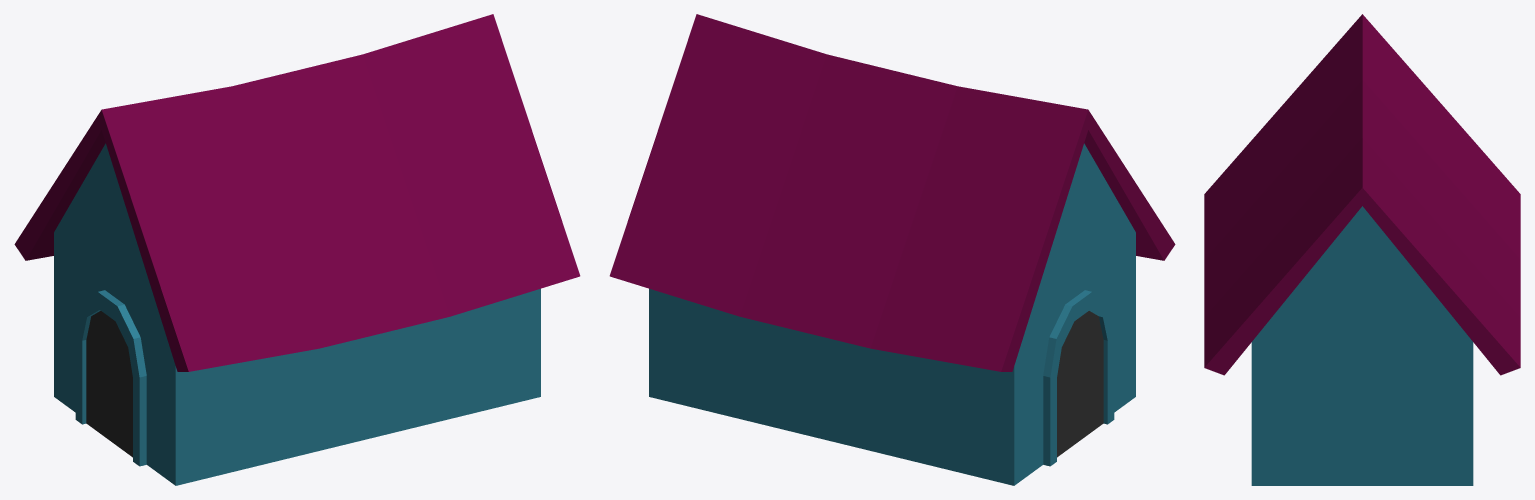
Rendered from dog_house_2.fbx.
3 views of the same model, side by side, from view 1: azimuth 30°, elevation 25°; view 2: azimuth 150°, elevation 25°; view 3: azimuth 270°, elevation 25° (orthographic). The views are drawn at different scales.
Visible parts, largest first — view 1: dog_house_2; view 2: dog_house_2; view 3: dog_house_2.
Boxes of the visible parts, left/top/right/bottom form: dog_house_2: left=14, top=14, right=580, bottom=485; dog_house_2: left=609, top=14, right=1175, bottom=485; dog_house_2: left=1204, top=14, right=1520, bottom=485.
Size of the model in its own units: 1.67 by 1.37 by 1.29.
